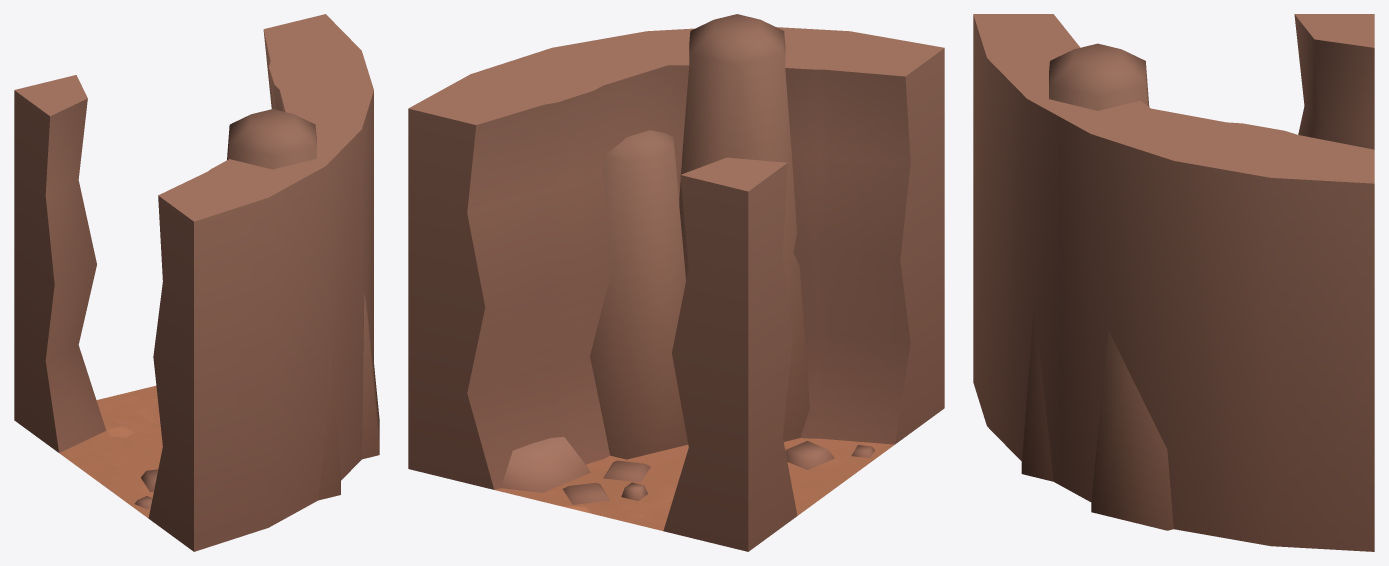
The model's file is corridor-corner.glb.
3 views of the same model, side by side, from view 1: azimuth 30°, elevation 25°; view 2: azimuth 150°, elevation 25°; view 3: azimuth 270°, elevation 25° (orthographic). The views are drawn at different scales.
Parts seen in each view (by area): view 1: corridor-corner; view 2: corridor-corner; view 3: corridor-corner.
Part boxes in pixels (left/top/right/bottom): corridor-corner: left=14, top=14, right=379, bottom=551; corridor-corner: left=408, top=14, right=944, bottom=551; corridor-corner: left=973, top=14, right=1374, bottom=551.
Bounding box in the file's own units: 4 × 4.4 × 4.
1 material, 1 textured.
